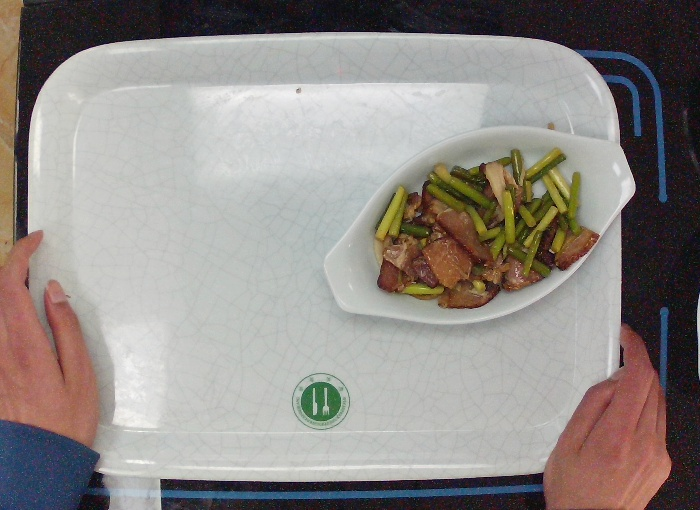JYsf-Yu_Pan: (323, 122, 644, 332)
